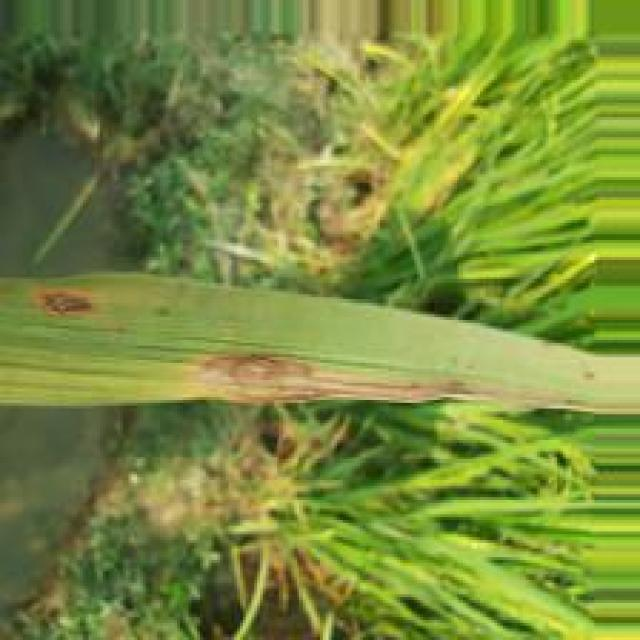Leaf_Blast: (183, 353, 474, 404), (29, 291, 99, 316)
